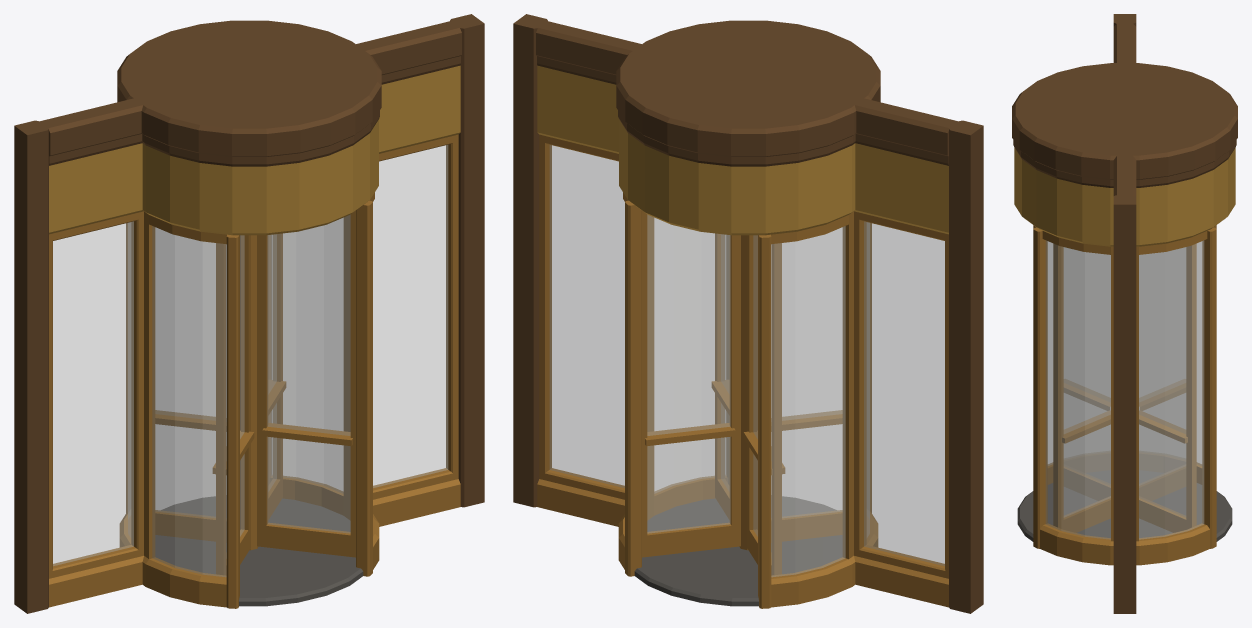
The model's file is revolving-entrance-bay.glb.
The picture shows the model from 3 angles, left to right: view 1: azimuth 30°, elevation 25°; view 2: azimuth 150°, elevation 25°; view 3: azimuth 270°, elevation 25°; orthographic projection. The views are drawn at different scales.
Parts seen in each view (by area): view 1: entrance-screen, screen-glass, wing-glass, wing-frames; view 2: entrance-screen, screen-glass, wing-glass, wing-frames; view 3: entrance-screen, screen-glass, wing-glass, wing-frames.
Part boxes in pixels (x1=…): entrance-screen: x1=14, y1=14, x2=484, y2=613; screen-glass: x1=53, y1=145, x2=448, y2=577; wing-glass: x1=155, y1=214, x2=350, y2=557; wing-frames: x1=155, y1=210, x2=355, y2=575; entrance-screen: x1=513, y1=14, x2=983, y2=613; screen-glass: x1=549, y1=145, x2=944, y2=577; wing-glass: x1=647, y1=214, x2=842, y2=557; wing-frames: x1=642, y1=210, x2=842, y2=575; entrance-screen: x1=1012, y1=14, x2=1237, y2=613; screen-glass: x1=1045, y1=240, x2=1204, y2=539; wing-glass: x1=1064, y1=247, x2=1185, y2=516; wing-frames: x1=1053, y1=244, x2=1196, y2=532.
Bounding box in the file's own units: 4 × 4 × 2.
